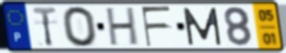8: (222, 5, 253, 48)
F: (140, 5, 173, 49)
H: (105, 6, 140, 48)
M: (181, 6, 224, 47)
O: (60, 4, 99, 48)
T: (31, 5, 59, 48)
